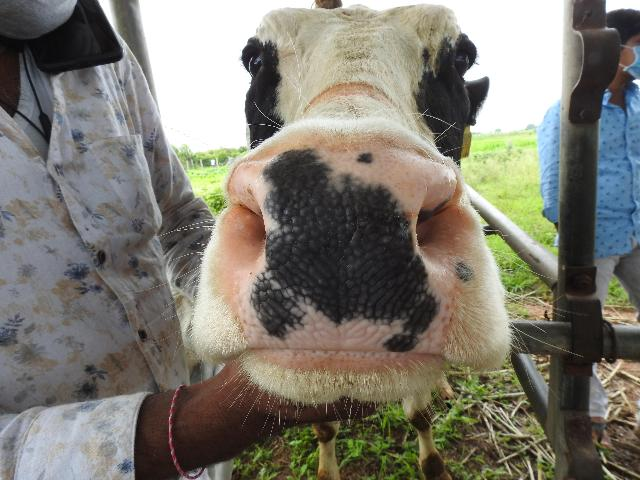Muzzle: (252, 169, 436, 355)
